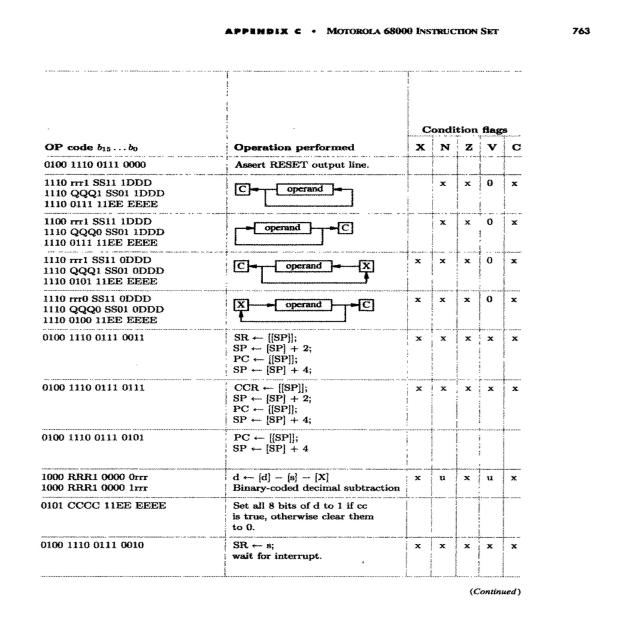diagram: (46, 76, 533, 604)
